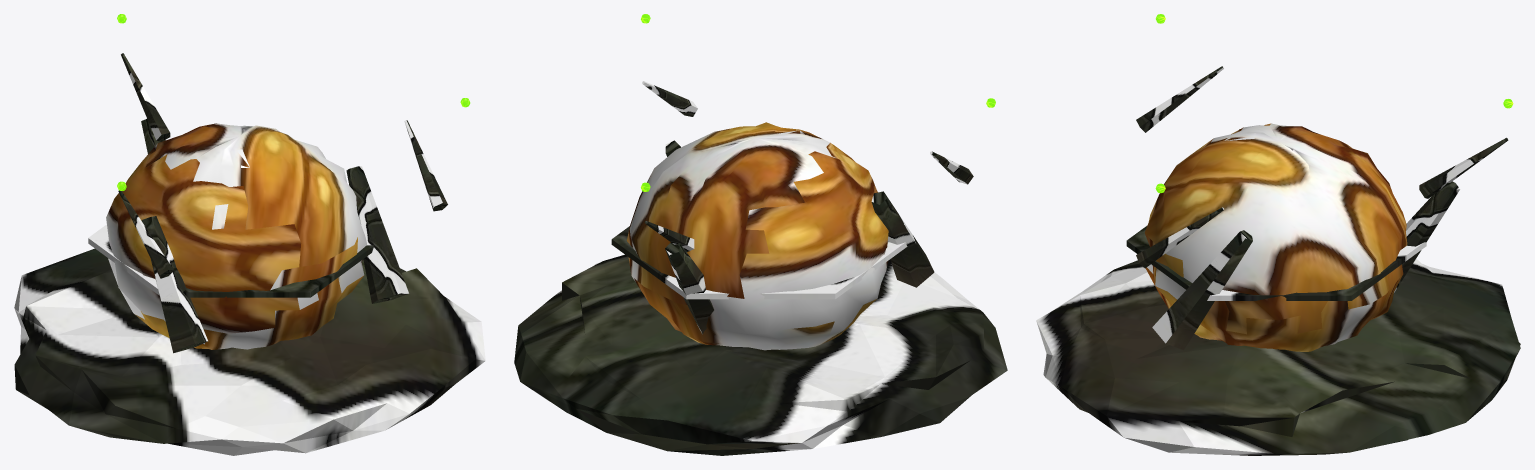
The model's file is verdant_apex_hatchery.glb.
3 renders of one model, left to right at view 1: azimuth 30°, elevation 25°; view 2: azimuth 150°, elevation 25°; view 3: azimuth 270°, elevation 25°, orthographic.
Parts seen in each view (by area): view 1: VerdantApexHatchery; view 2: VerdantApexHatchery; view 3: VerdantApexHatchery.
Boxes of the visible parts, <box> form: VerdantApexHatchery: <box>14,14,485,455</box>; VerdantApexHatchery: <box>514,14,1007,455</box>; VerdantApexHatchery: <box>1036,14,1520,455</box>.
Bounding box in the file's own units: 5.65 × 3.73 × 5.65.
Materials: 3 (3 with a texture image).
